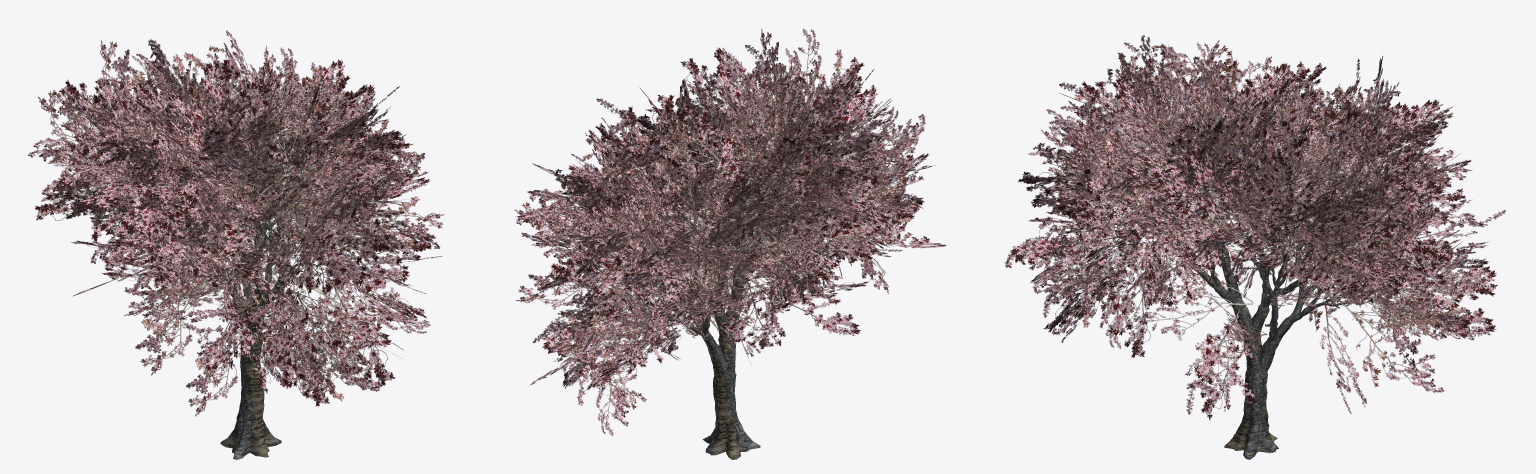
File: cherry.glb
3 views of the same model, side by side, from view 1: azimuth 30°, elevation 25°; view 2: azimuth 150°, elevation 25°; view 3: azimuth 270°, elevation 25° (orthographic). The views are drawn at different scales.
Parts seen in each view (by area): view 1: prunusserrulata_obj_cleaner_materialmerger_gles; view 2: prunusserrulata_obj_cleaner_materialmerger_gles; view 3: prunusserrulata_obj_cleaner_materialmerger_gles.
Boxes of the visible parts, <box> form: prunusserrulata_obj_cleaner_materialmerger_gles: <box>28,30,444,459</box>; prunusserrulata_obj_cleaner_materialmerger_gles: <box>514,28,946,459</box>; prunusserrulata_obj_cleaner_materialmerger_gles: <box>1004,35,1505,459</box>.
Size of the model in its own units: 11.22 by 12.14 by 14.31.
7 materials, 7 textured.
